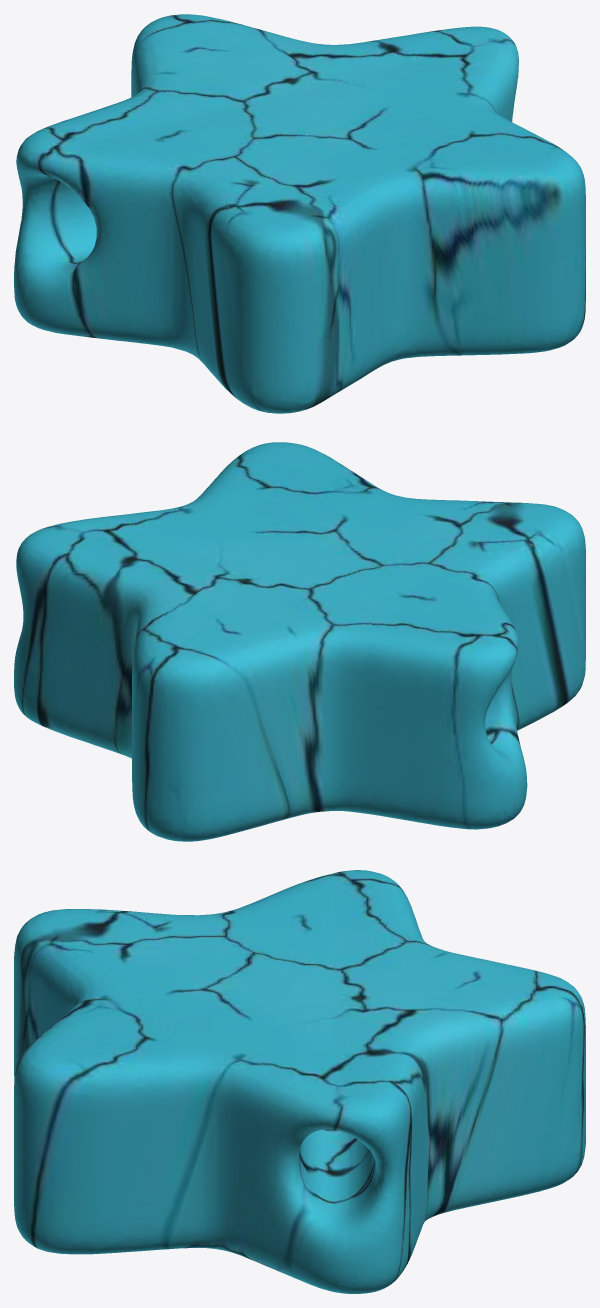
Rendered from Firosha.glb.
3 renders of one model, top to bottom at view 1: azimuth 30°, elevation 25°; view 2: azimuth 150°, elevation 25°; view 3: azimuth 270°, elevation 25°, orthographic. The views are drawn at different scales.
Parts seen in each view (by area): view 1: StarBead; view 2: StarBead; view 3: StarBead.
Part boxes in pixels (x1,y1,x2,y2): StarBead: [14, 14, 585, 413]; StarBead: [14, 442, 585, 841]; StarBead: [14, 870, 585, 1293].
Size of the model in its own units: 5.81 by 2.04 by 5.52.
Materials: 1 (1 with a texture image).
